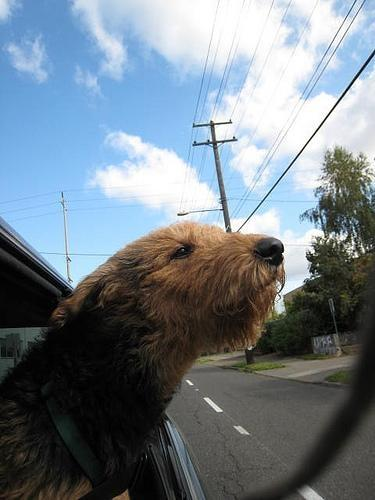car: (0, 217, 213, 494)
